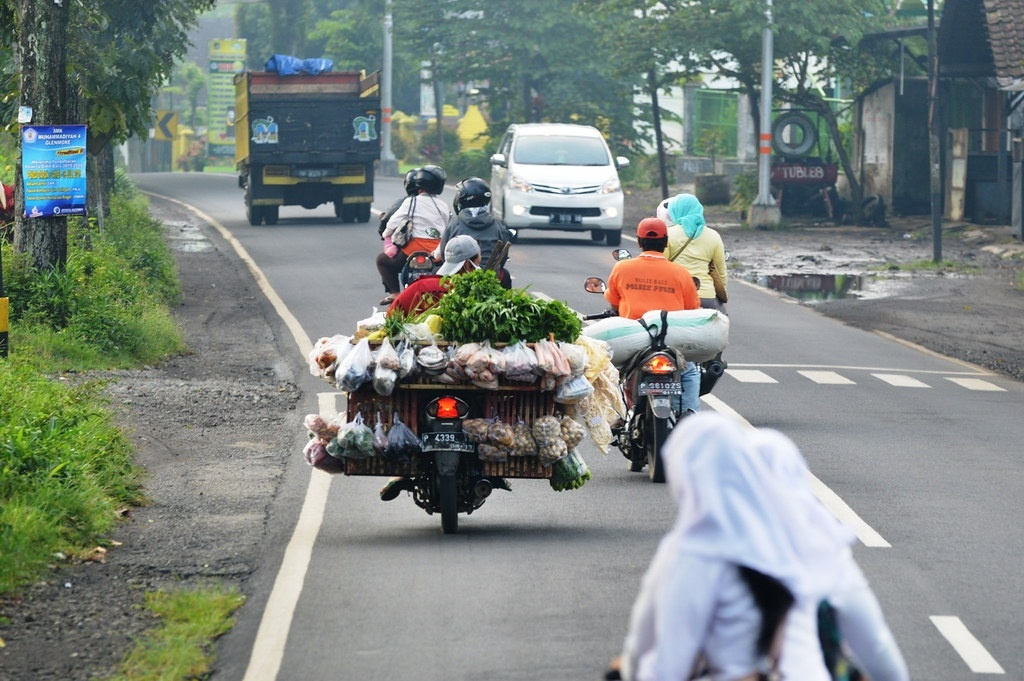gerobak: (304, 258, 625, 532)
